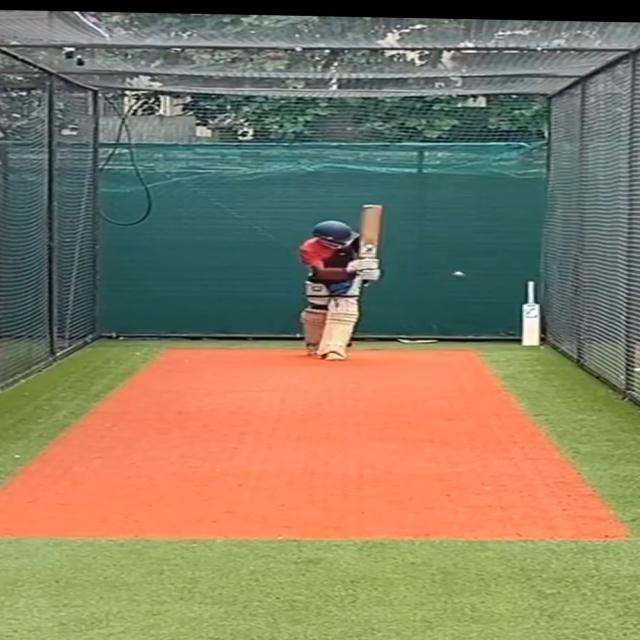ball: (447, 268, 470, 282)
